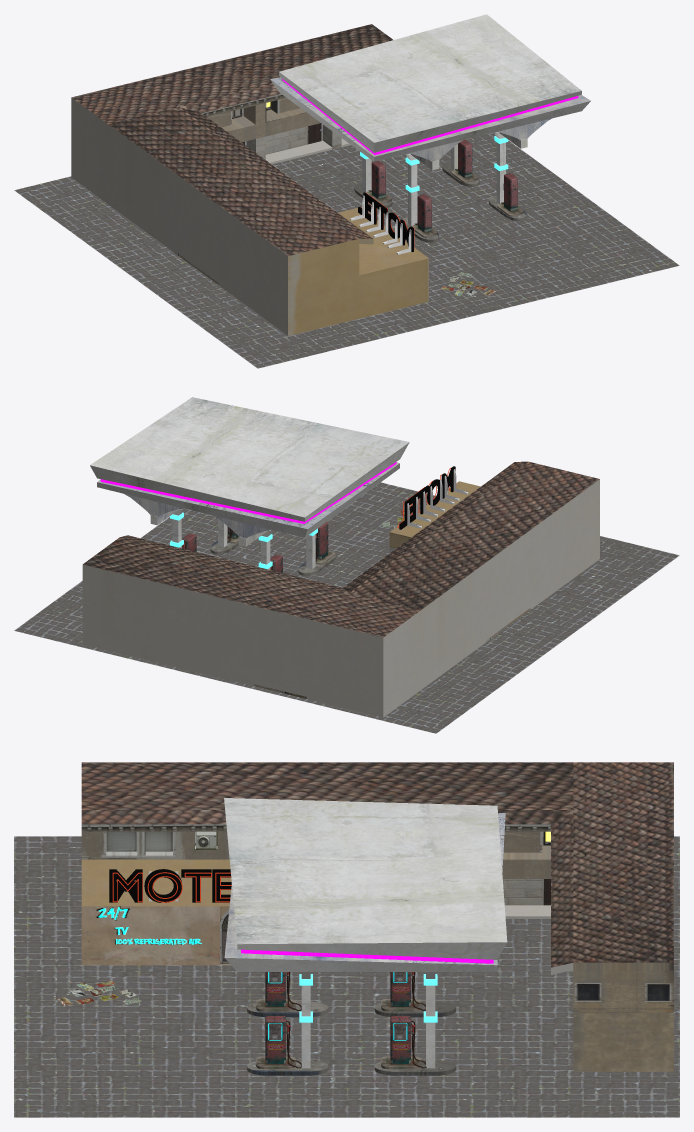
3 renders of one model, top to bottom at view 1: azimuth 30°, elevation 25°; view 2: azimuth 150°, elevation 25°; view 3: azimuth 270°, elevation 25°, orthographic. The views are drawn at different scales.
Visible parts, largest first — view 1: MotelBuild_12, Floor_13, Cube.011_5, Cube_3, Cube.001_4, Text.001_1, Plane.004_2, GasPump_pCube6_6, GasPump_pCube6.002_8, GasPump_pCube6.001_7, GasPump_pCube6.003_9; view 2: MotelBuild_12, Cube.011_5, Floor_13, Cube_3, Text.001_1, Plane.004_2, GasPump_pCube6_6, Cube.001_4; view 3: Floor_13, MotelBuild_12, Cube.011_5, Cube.001_4, Text.001_1, Cube_3, GasPump_pCube6.002_8, GasPump_pCube6.001_7, GasPump_pCube6.003_9, GasPump_pCube6_6, Text_0, pappers_Plane.001_10.
Boxes of the visible parts, <box> form: MotelBuild_12: <box>71,24,428,335</box>; Floor_13: <box>14,132,679,368</box>; Cube.011_5: <box>270,14,590,161</box>; Cube_3: <box>360,118,551,225</box>; Cube.001_4: <box>354,161,526,242</box>; Text.001_1: <box>358,192,413,251</box>; Plane.004_2: <box>350,195,411,254</box>; GasPump_pCube6_6: <box>411,194,437,237</box>; GasPump_pCube6.002_8: <box>451,140,478,182</box>; GasPump_pCube6.001_7: <box>497,173,523,216</box>; GasPump_pCube6.003_9: <box>365,161,391,203</box>; MotelBuild_12: <box>82,461,599,717</box>; Cube.011_5: <box>90,397,409,537</box>; Floor_13: <box>14,482,679,733</box>; Cube_3: <box>124,494,317,569</box>; Text.001_1: <box>399,466,455,529</box>; Plane.004_2: <box>407,469,468,528</box>; GasPump_pCube6_6: <box>315,522,334,564</box>; Cube.001_4: <box>210,533,336,575</box>; Floor_13: <box>14,836,679,1117</box>; MotelBuild_12: <box>81,762,673,1071</box>; Cube.011_5: <box>224,798,507,971</box>; Cube.001_4: <box>247,1001,455,1075</box>; Text.001_1: <box>109,869,231,902</box>; Cube_3: <box>299,972,437,1068</box>; GasPump_pCube6.002_8: <box>381,1016,426,1069</box>; GasPump_pCube6.001_7: <box>256,1016,301,1069</box>; GasPump_pCube6.003_9: <box>381,972,425,1011</box>; GasPump_pCube6_6: <box>256,972,301,1011</box>; Text_0: <box>112,872,231,902</box>; pappers_Plane.001_10: <box>57,980,141,1005</box>.
Bounding box in the file's own units: 29.19 × 8.13 × 29.19.
Materials: 10 (8 with a texture image).
